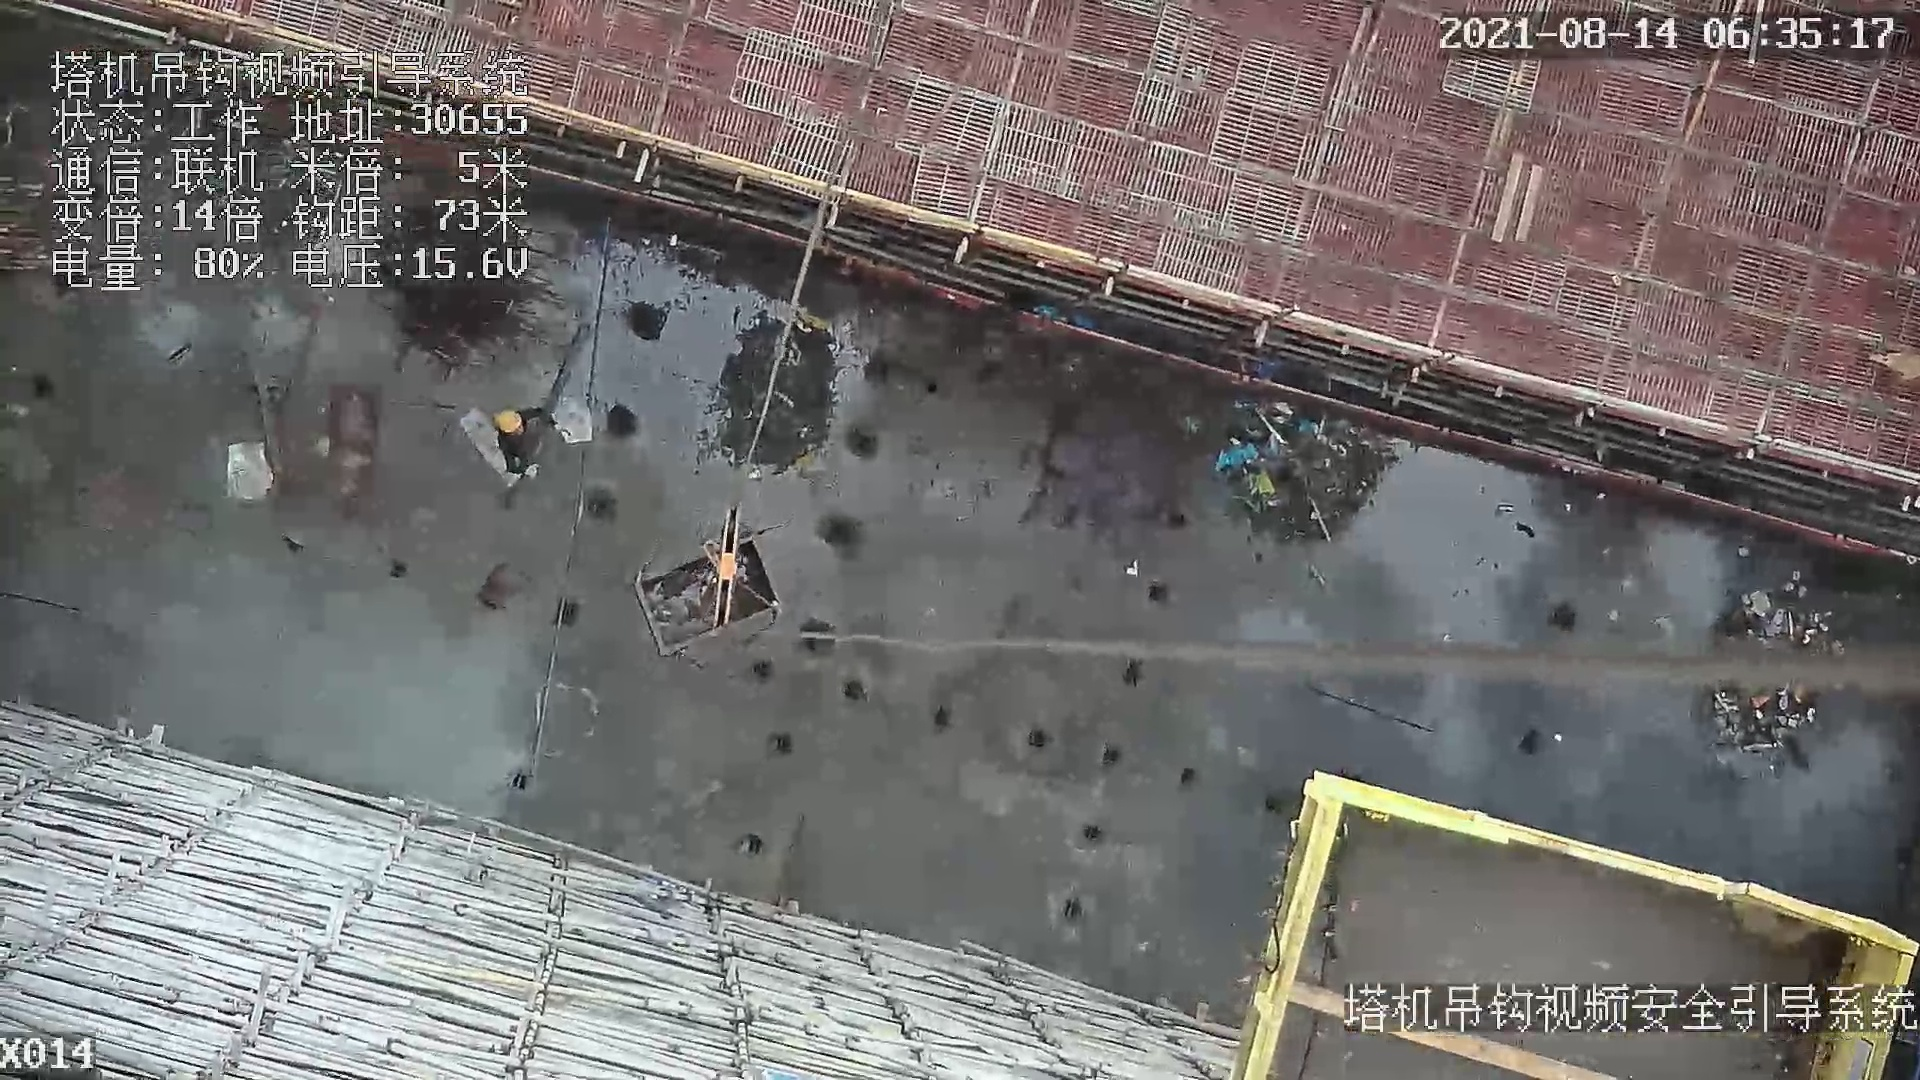helmet: (496, 411, 521, 436)
hook: (699, 497, 737, 630)
hopper: (636, 539, 779, 676)
person: (492, 404, 559, 489)
